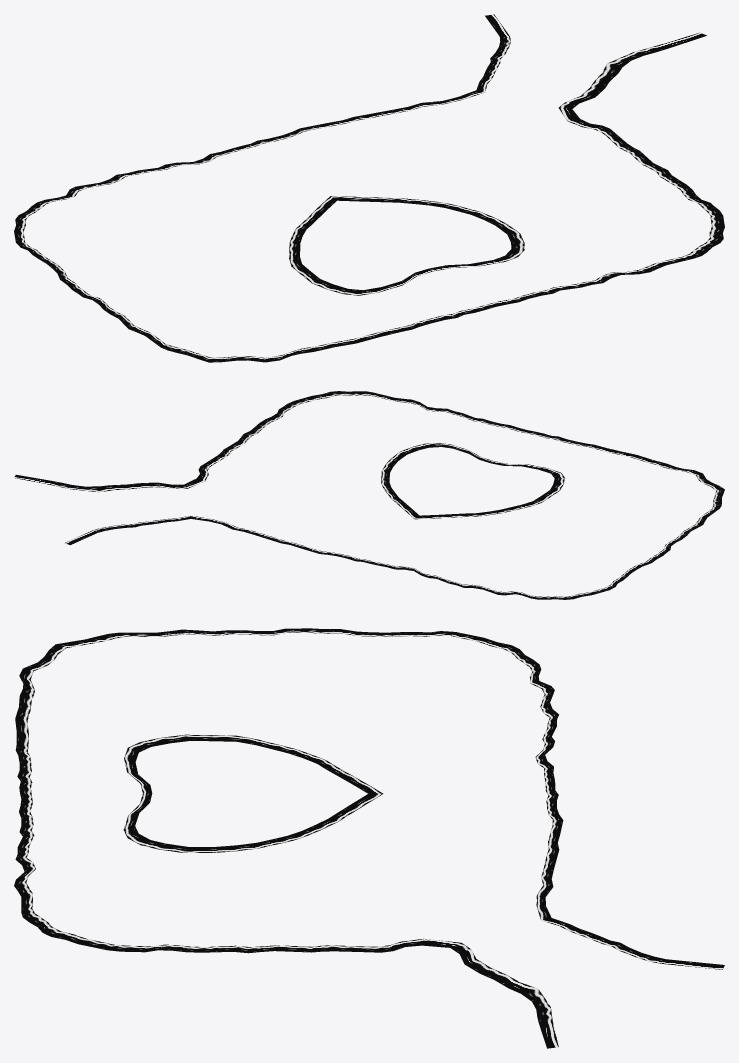
File: CBS_water_FX.FBX
3 views of the same model, one above another, from view 1: azimuth 30°, elevation 25°; view 2: azimuth 150°, elevation 25°; view 3: azimuth 270°, elevation 25° (orthographic). The views are drawn at different scales.
Visible parts, largest first — view 1: CBS_water_FX; view 2: CBS_water_FX; view 3: CBS_water_FX.
Boxes of the visible parts, <box> form: CBS_water_FX: <box>14,14,724,362</box>; CBS_water_FX: <box>14,391,724,599</box>; CBS_water_FX: <box>14,628,724,1048</box>.
Bounding box in the file's own units: 9001 × 0.0123 × 6433.
